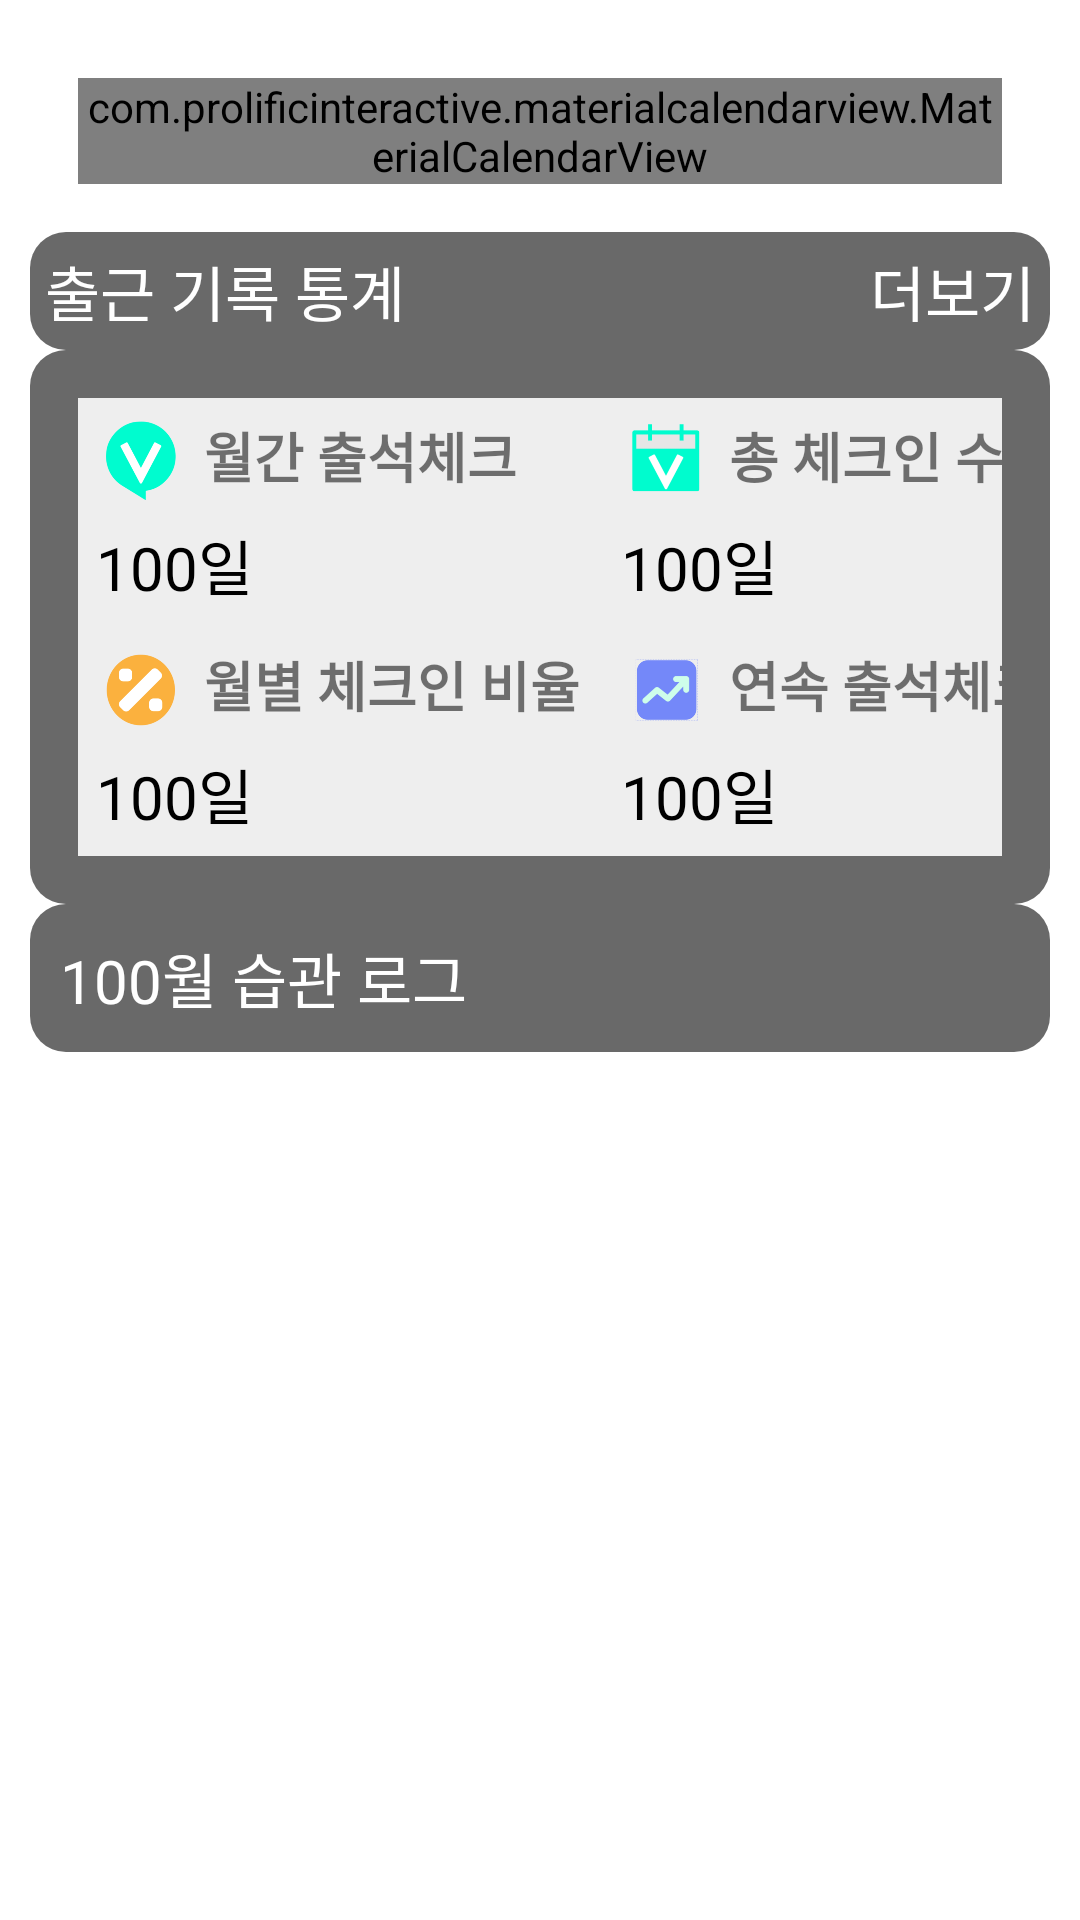

Named icons in this screenshot (1080 × 1920) and their centers, (x,y):
checkin longest continuous period: (667,690)
checkin monthlycheck: (141,460)
checkin totalcheckin: (666,457)
